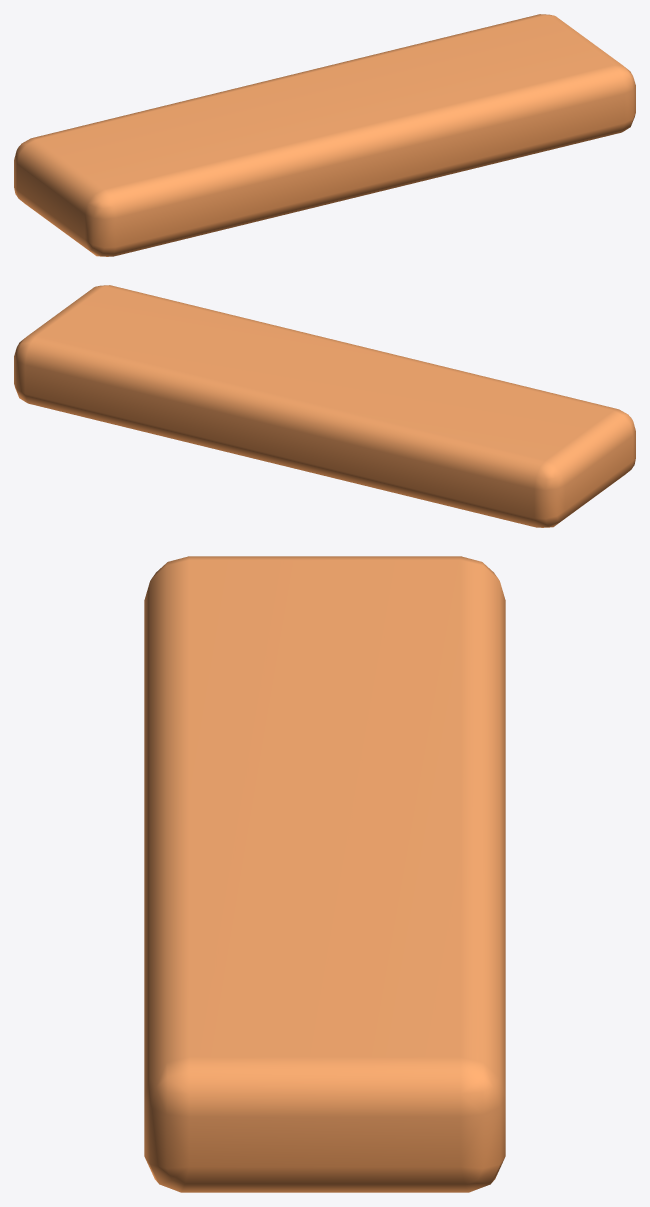
Rendered from Kitchen_Shelf_002.fbx.
The picture shows the model from 3 angles, top to bottom: view 1: azimuth 30°, elevation 25°; view 2: azimuth 150°, elevation 25°; view 3: azimuth 270°, elevation 25°; orthographic projection. The views are drawn at different scales.
Parts seen in each view (by area): view 1: Kitchen_Shelf_002; view 2: Kitchen_Shelf_002; view 3: Kitchen_Shelf_002.
Part boxes in pixels (x1,y1,x2,y2): Kitchen_Shelf_002: (14,14,635,256); Kitchen_Shelf_002: (14,285,635,527); Kitchen_Shelf_002: (144,556,505,1192).
Bounding box in the file's own units: 0.744 × 0.0854 × 0.2126.
